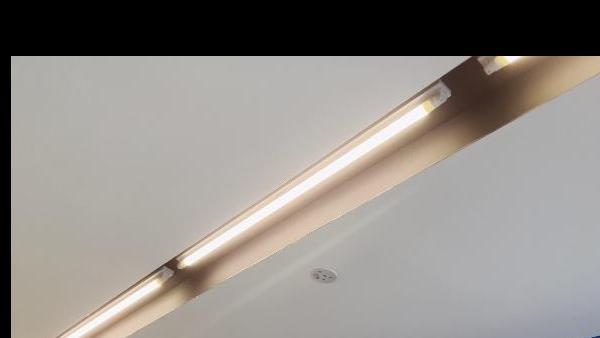light_on: (175, 74, 458, 275), (48, 256, 176, 338), (468, 56, 537, 86)
